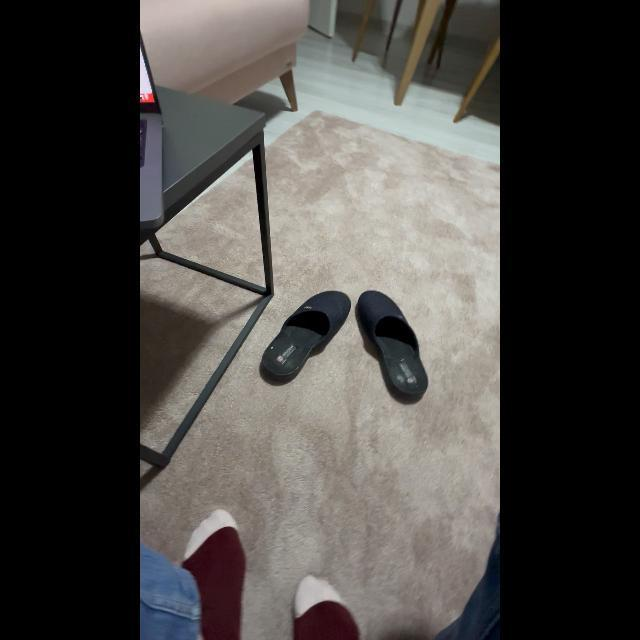slipper: (255, 270, 352, 392), (350, 282, 436, 408)
